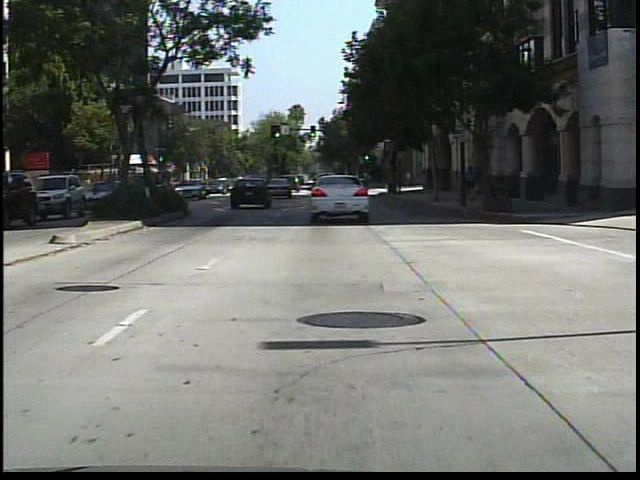person: (463, 162, 482, 205)
